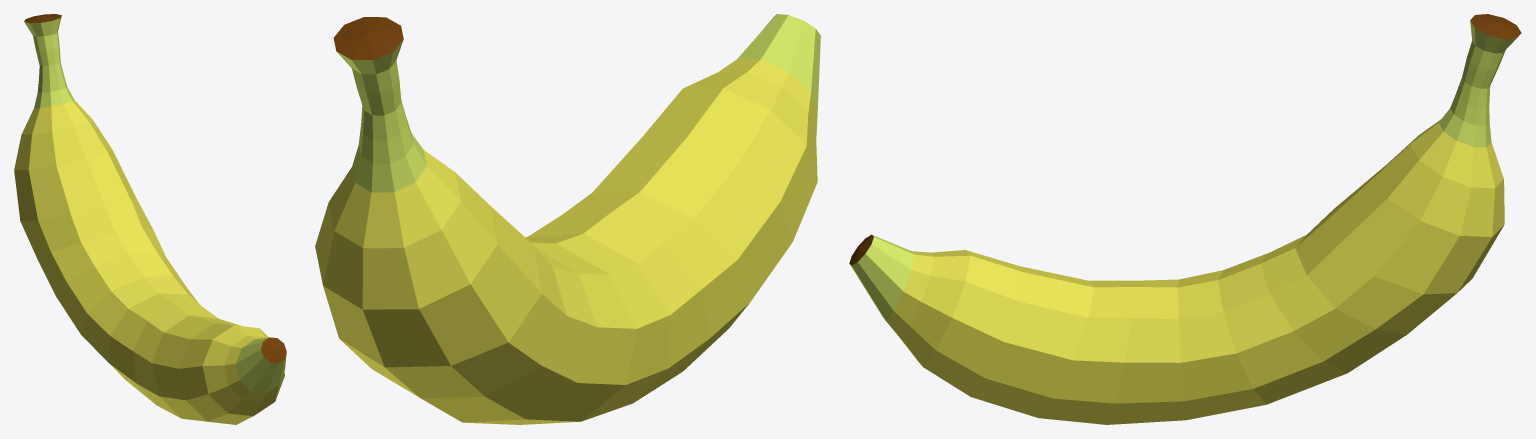
The model's file is GamesE_E03_platano2.0.fbx.
3 views of the same model, side by side, from view 1: azimuth 30°, elevation 25°; view 2: azimuth 150°, elevation 25°; view 3: azimuth 270°, elevation 25° (orthographic). The views are drawn at different scales.
Parts seen in each view (by area): view 1: Sphere; view 2: Sphere; view 3: Sphere.
Part boxes in pixels (x1,y1,x2,y2): Sphere: (14,14,286,424); Sphere: (315,14,820,424); Sphere: (849,14,1521,424).
Size of the model in its own units: 92.39 by 251 by 384.
